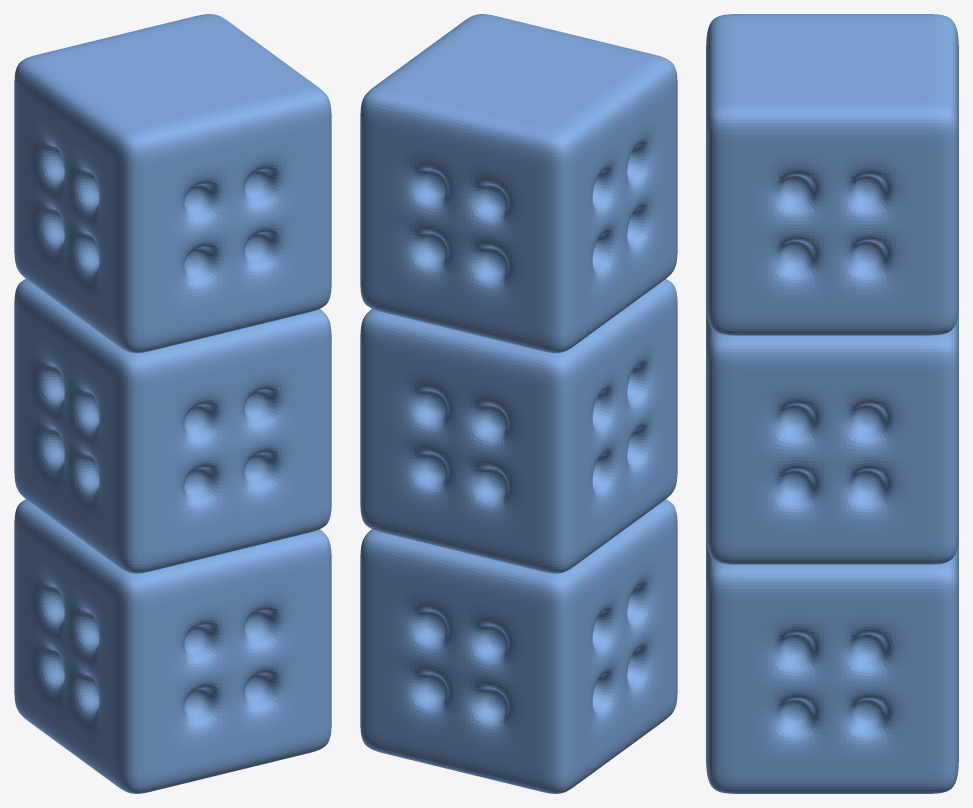
Rendered from blue_1.3.1.fbx.
3 views of the same model, side by side, from view 1: azimuth 30°, elevation 25°; view 2: azimuth 150°, elevation 25°; view 3: azimuth 270°, elevation 25° (orthographic). The views are drawn at different scales.
Visible parts, largest first — view 1: Cube.001; view 2: Cube.001; view 3: Cube.001.
Part boxes in pixels (x1,y1,x2,y2): Cube.001: [14, 14, 331, 793]; Cube.001: [360, 14, 677, 793]; Cube.001: [706, 14, 958, 793].
Size of the model in its own units: 100 by 300 by 100.
